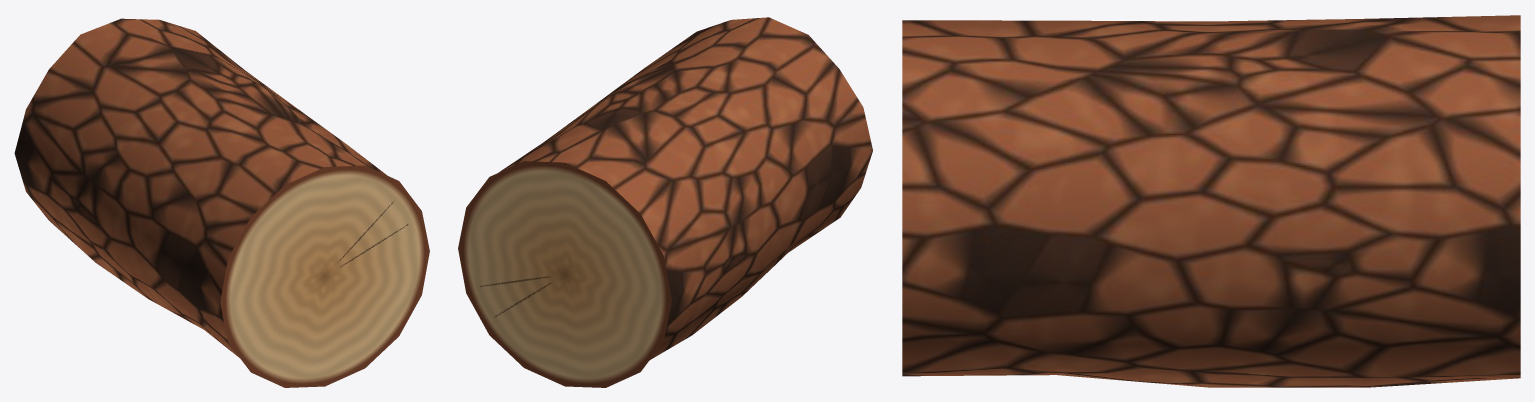
File: pine_log.glb
3 renders of one model, left to right at view 1: azimuth 30°, elevation 25°; view 2: azimuth 150°, elevation 25°; view 3: azimuth 270°, elevation 25°, orthographic. The views are drawn at different scales.
Parts seen in each view (by area): view 1: pine_log; view 2: pine_log; view 3: pine_log.
Part boxes in pixels (x1,y1,x2,y2): pine_log: (14,18,429,387); pine_log: (458,17,872,387); pine_log: (902,15,1520,387).
Bounding box in the file's own units: 0.7276 × 0.7304 × 1.2.
Materials: 2 (2 with a texture image).
